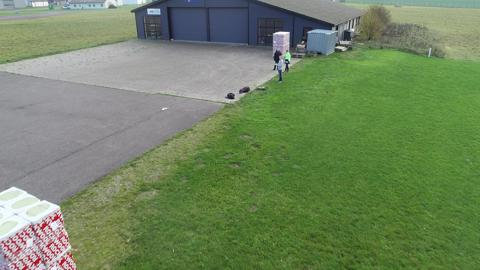RockwoolPallet: (272, 31, 291, 58)
